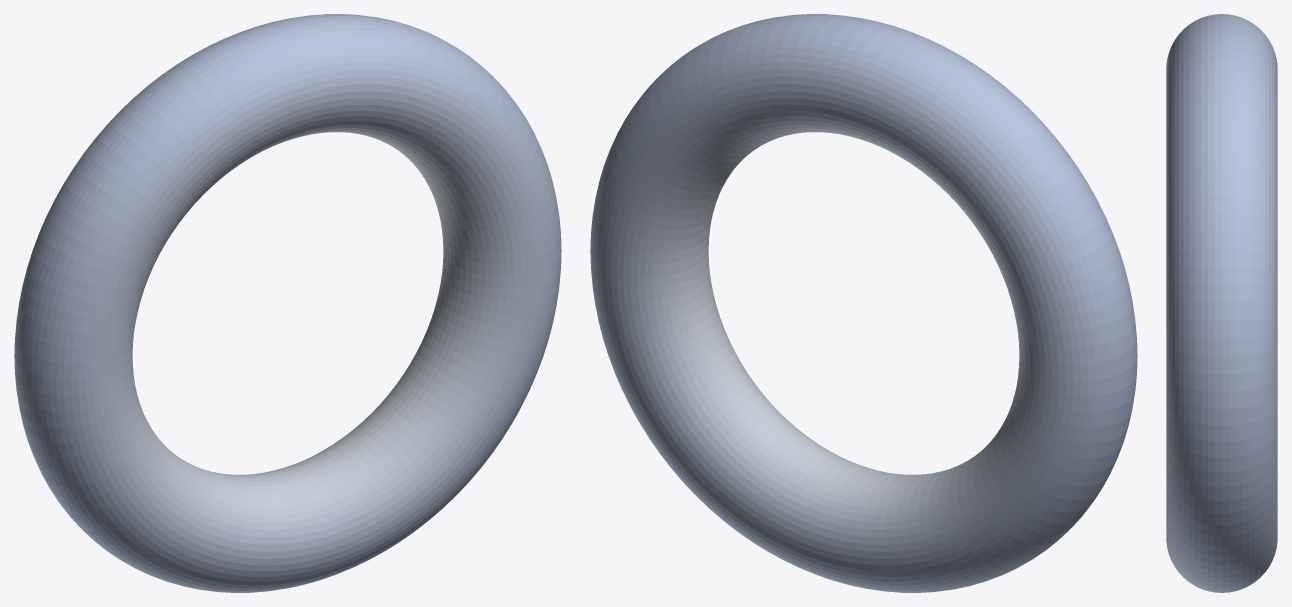
The picture shows the model from 3 angles, left to right: view 1: azimuth 30°, elevation 25°; view 2: azimuth 150°, elevation 25°; view 3: azimuth 270°, elevation 25°; orthographic projection. The views are drawn at different scales.
Parts seen in each view (by area): view 1: world; view 2: world; view 3: world.
Boxes of the visible parts, x1,y1,x2,y2 form: world: (14,14,561,592); world: (590,14,1137,592); world: (1166,14,1277,592).
Bounding box in the file's own units: 25.6 × 25.6 × 4.92.
